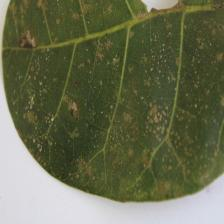leaf miner: (0, 0, 224, 203)
